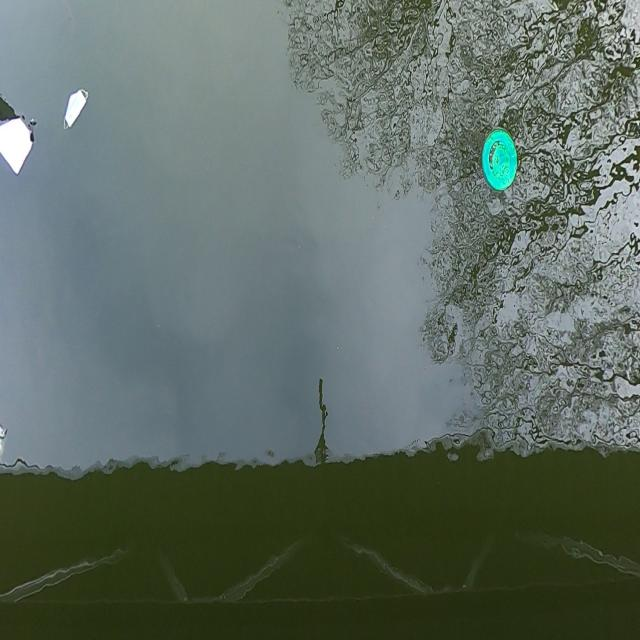Autre plastique: (479, 126, 523, 192)
Non plastique: (61, 82, 92, 134)
